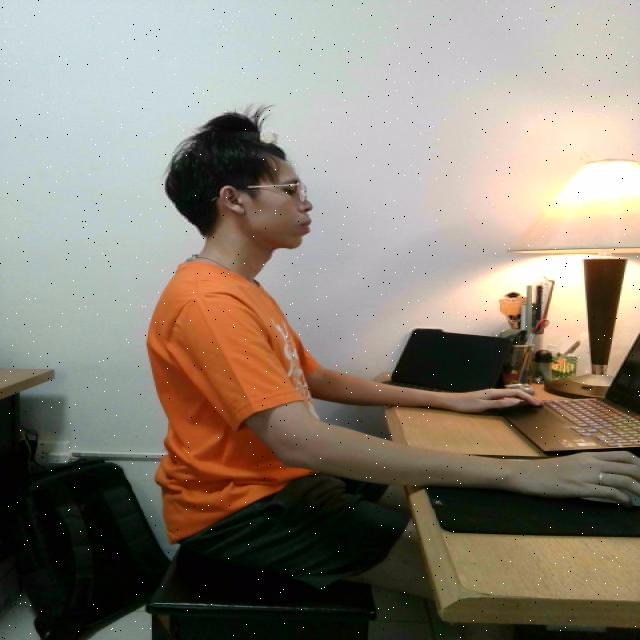Good: (136, 110, 406, 572)
